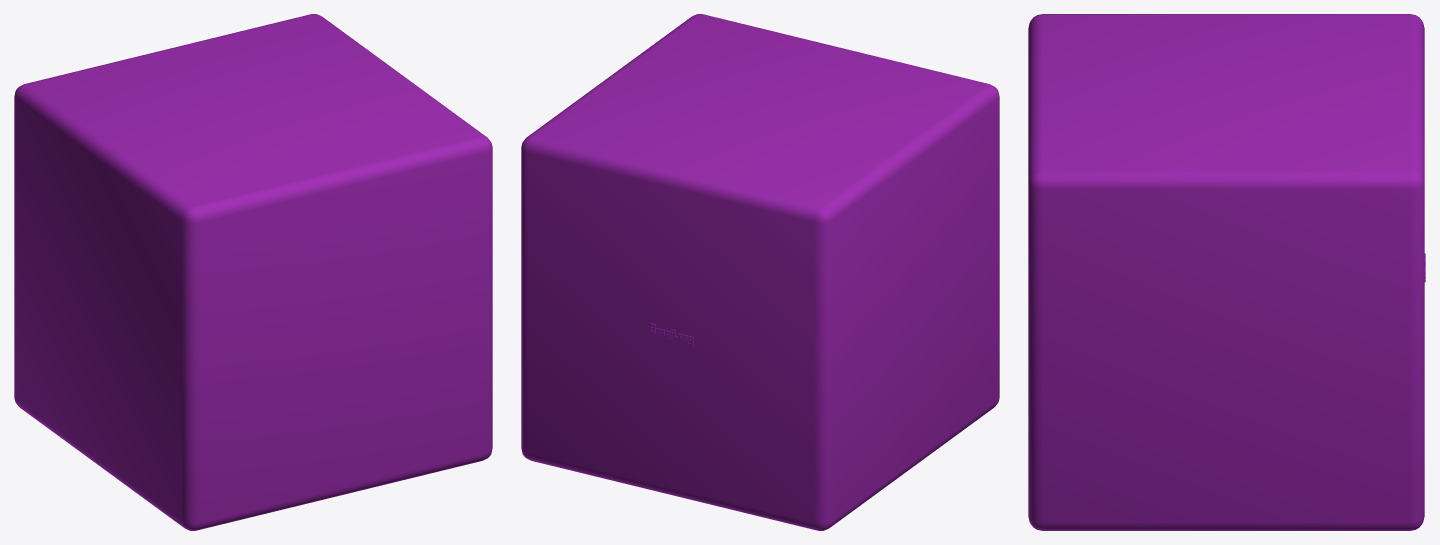
The model's file is purple_square.fbx.
The picture shows the model from 3 angles, left to right: view 1: azimuth 30°, elevation 25°; view 2: azimuth 150°, elevation 25°; view 3: azimuth 270°, elevation 25°; orthographic projection. The views are drawn at different scales.
Parts seen in each view (by area): view 1: purple square; view 2: purple square; view 3: purple square.
Boxes of the visible parts, x1=… form: purple square: x1=14, y1=14, x2=492, y2=530; purple square: x1=521, y1=14, x2=999, y2=530; purple square: x1=1028, y1=14, x2=1425, y2=530.
Size of the model in its own units: 192 by 192 by 192.
1 material, 1 textured.
